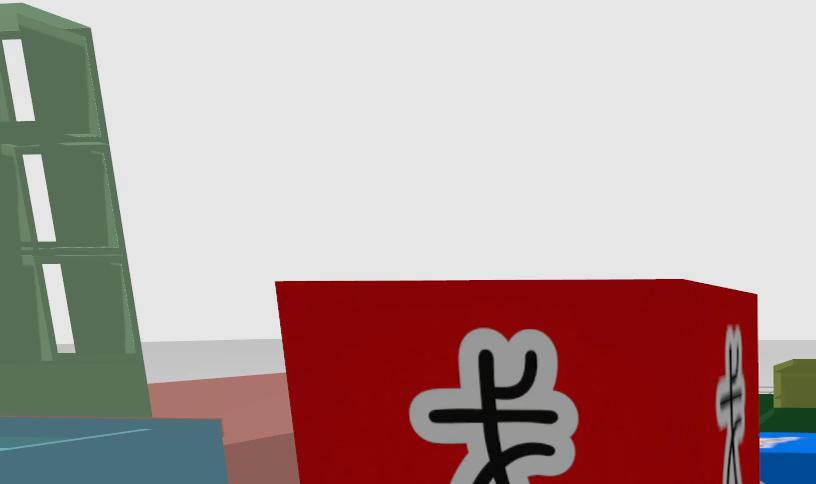KFS_FAKE: (276, 280, 759, 484), (410, 328, 577, 484), (717, 327, 745, 484)
KFS_REAL: (760, 431, 816, 484)
